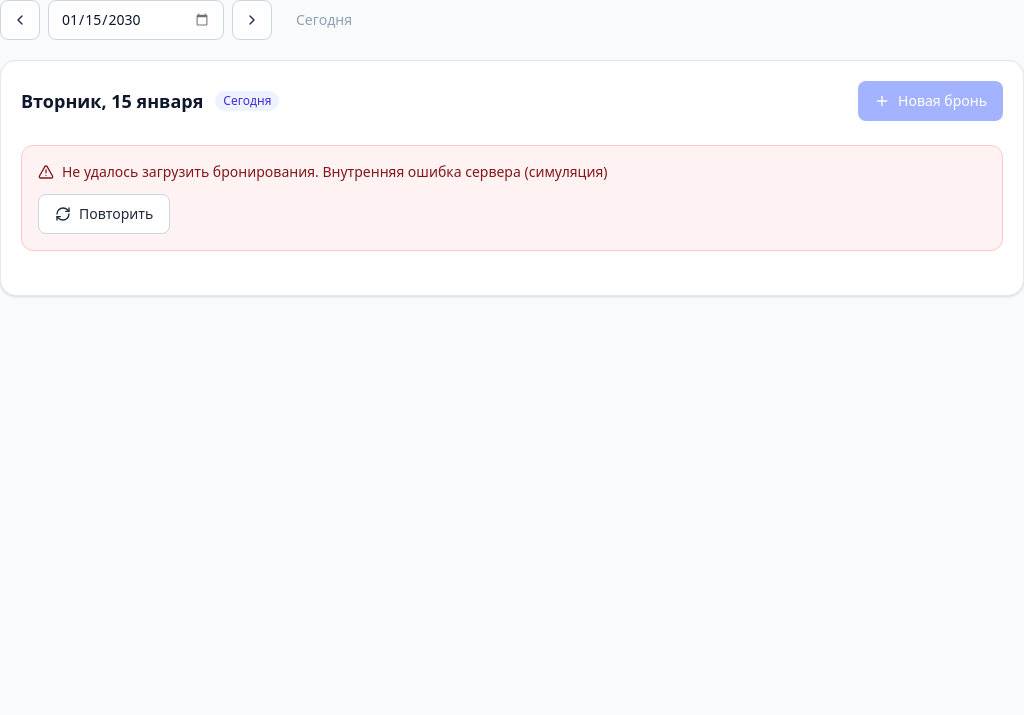
BookingApp › shows an error state with retry when loading fails
Expected: the message shows "Не удалось загрузить бронирования", [62, 162, 319, 181]
Click the button "Повторить" at coordinates (104, 214), box [38, 194, 170, 234]
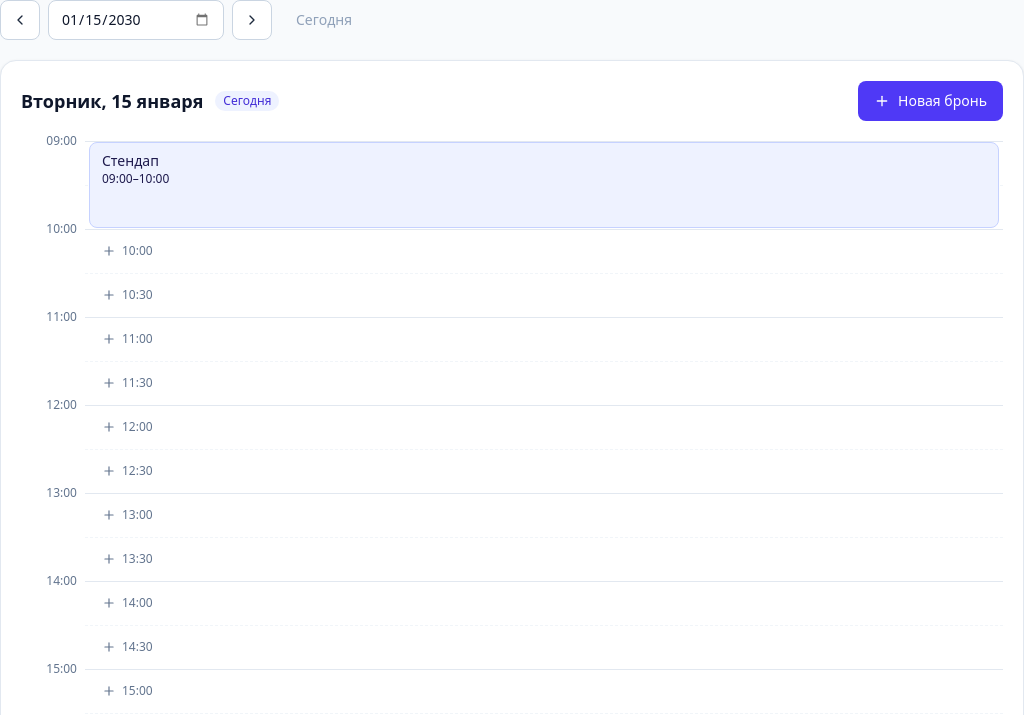
Expected: the button "Стендап 09:00–10:00" is shown, [89, 142, 999, 228]
